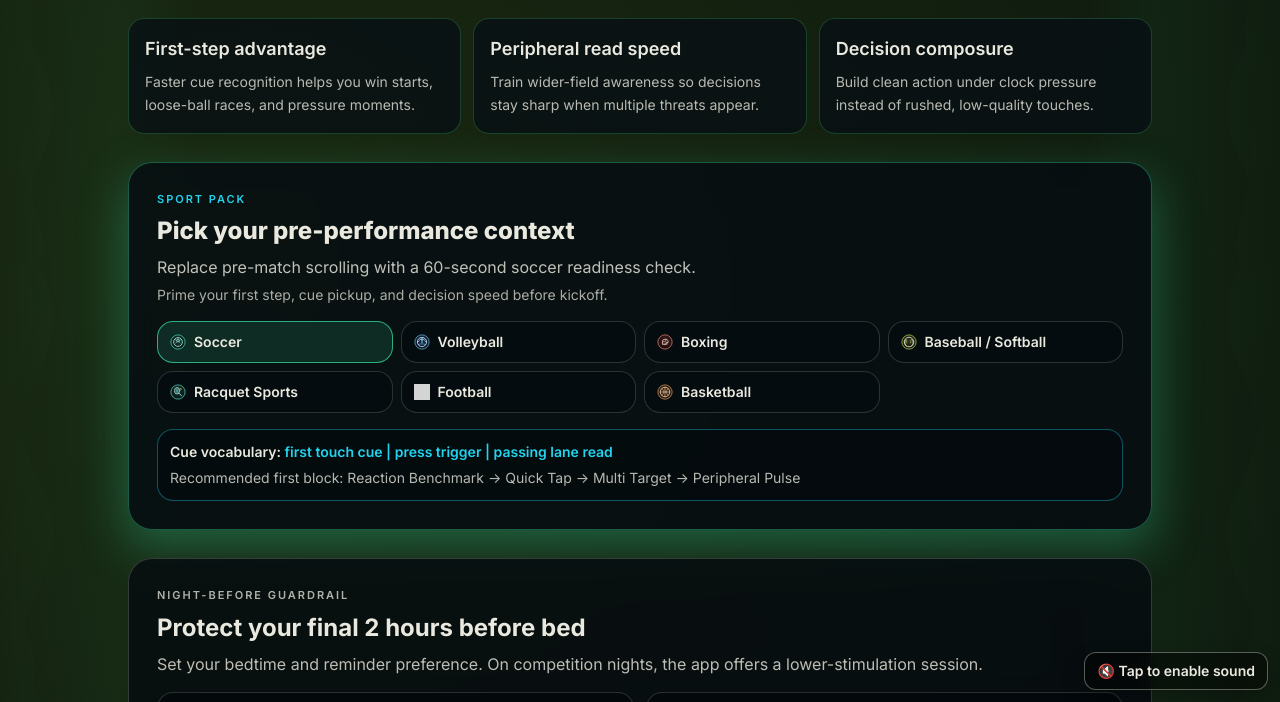
App integration flow › renders sport-specific drill descriptions in mode cards
The width and height of the screenshot is (1280, 702).
(page scrolled)
Click the button "Boxing" at [762, 342], box [644,321,880,363]
(page scrolled)
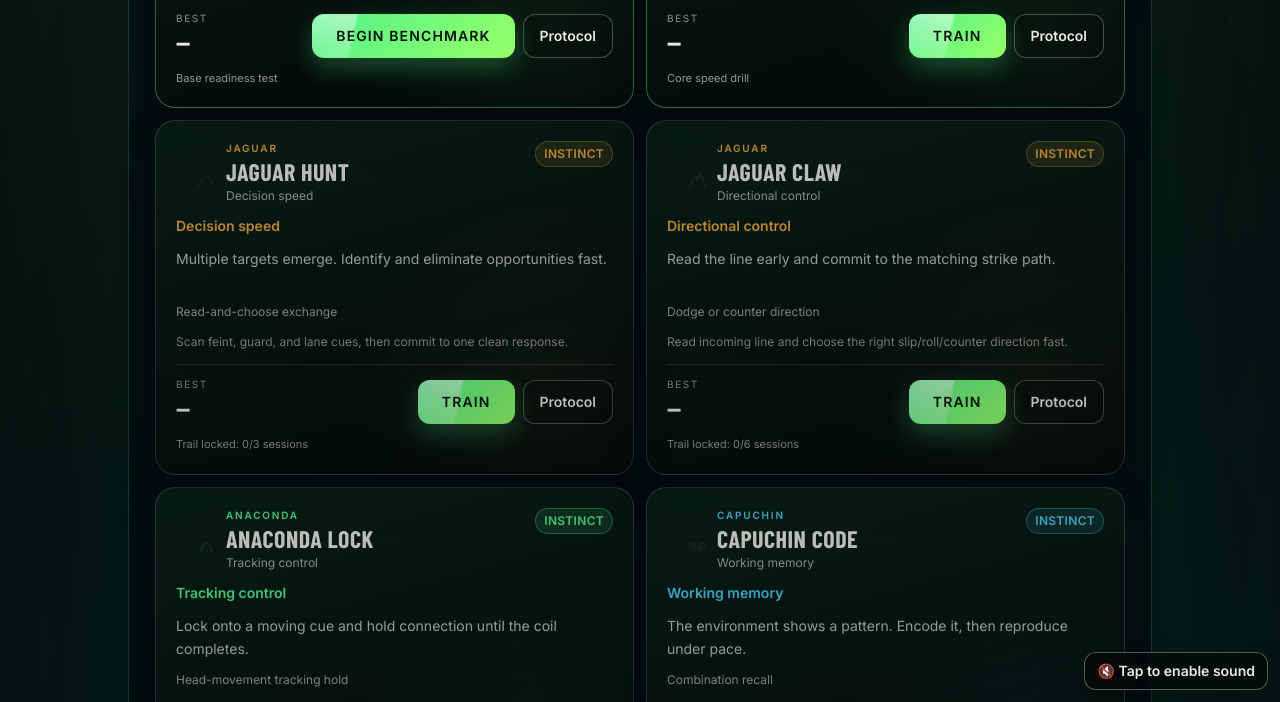
Check: the text "Read incoming line and choose the right slip/roll/counter direction fast." is shown, box [667,332,1104,352]
